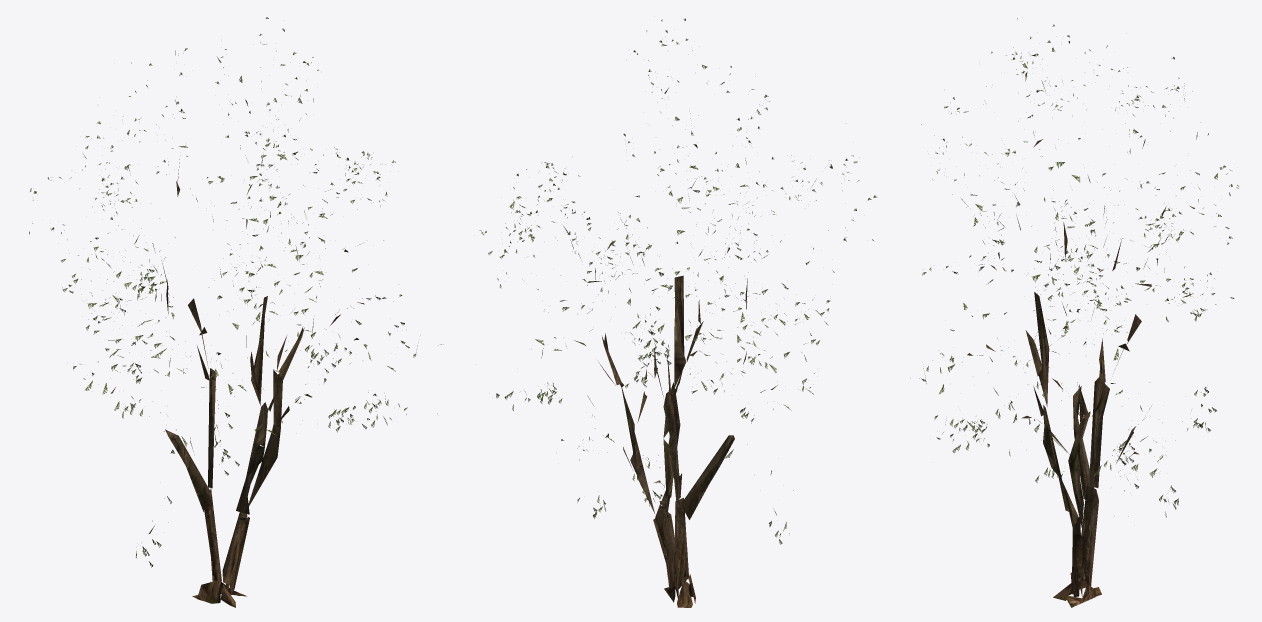
File: tree_jacaranda_sapling.glb
The picture shows the model from 3 angles, left to right: view 1: azimuth 30°, elevation 25°; view 2: azimuth 150°, elevation 25°; view 3: azimuth 270°, elevation 25°; orthographic projection. The views are drawn at different scales.
Parts seen in each view (by area): view 1: tree_jacaranda_sapling; view 2: tree_jacaranda_sapling; view 3: tree_jacaranda_sapling.
Boxes of the visible parts, x1=… form: tree_jacaranda_sapling: x1=29, y1=17, x2=443, y2=607; tree_jacaranda_sapling: x1=479, y1=18, x2=877, y2=607; tree_jacaranda_sapling: x1=910, y1=18, x2=1238, y2=607.
Size of what is drawn, in the model's own units: 2.37 by 3.5 by 1.82.
Materials: 3 (3 with a texture image).
